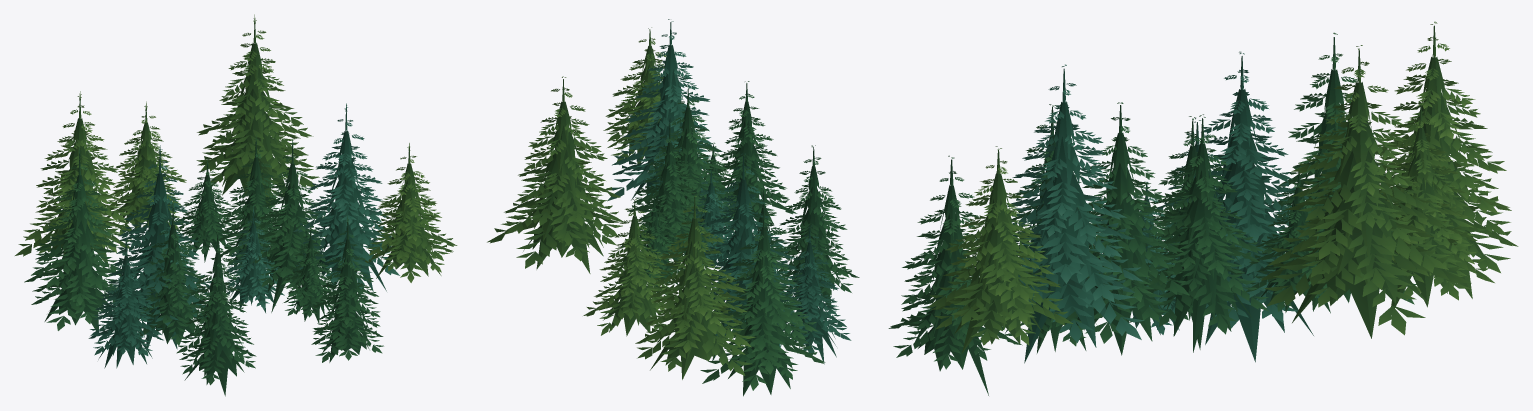
3 views of the same model, side by side, from view 1: azimuth 30°, elevation 25°; view 2: azimuth 150°, elevation 25°; view 3: azimuth 270°, elevation 25° (orthographic). The views are drawn at different scales.
Visible parts, largest first — view 1: pn_6; view 2: pn_6; view 3: pn_6.
Part boxes in pixels (bbox=[...]): pn_6: bbox=[15, 14, 457, 396]; pn_6: bbox=[487, 19, 859, 396]; pn_6: bbox=[888, 21, 1518, 395].
Bounding box in the file's own units: 27.98 × 23.36 × 32.96.
Materials: 1 (1 with a texture image).
